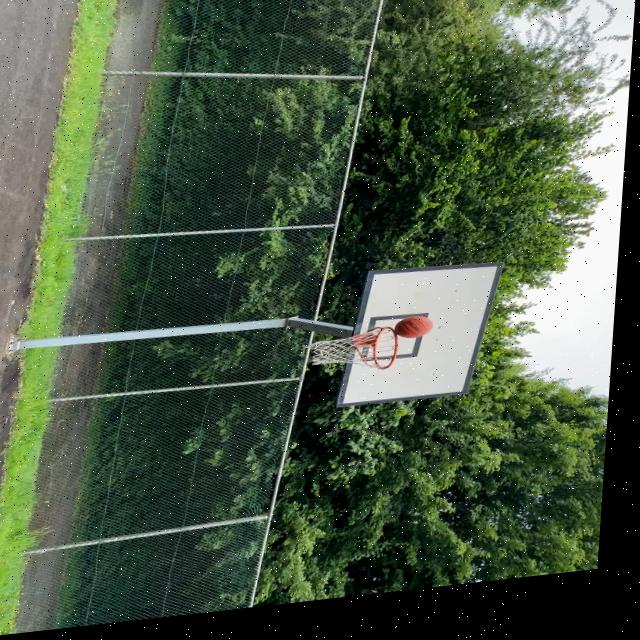rebound_hit: (391, 314, 434, 341)
